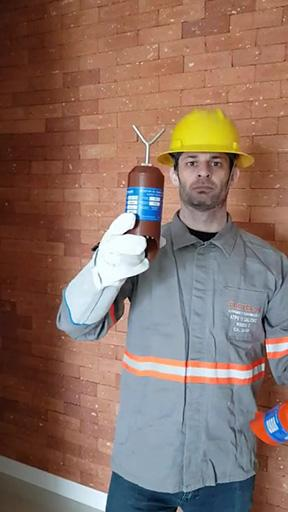Detector_Tensao_Contato: (124, 123, 168, 264)
